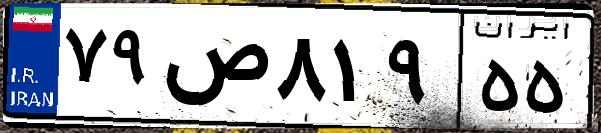1: (330, 28, 385, 110)
5: (475, 38, 525, 113), (525, 38, 570, 115)
7: (57, 26, 110, 100)
8: (270, 28, 330, 110)
9: (385, 28, 445, 110), (110, 28, 158, 98)
ص: (158, 20, 270, 120)
